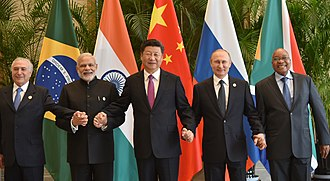modi: (68, 49, 109, 90)
